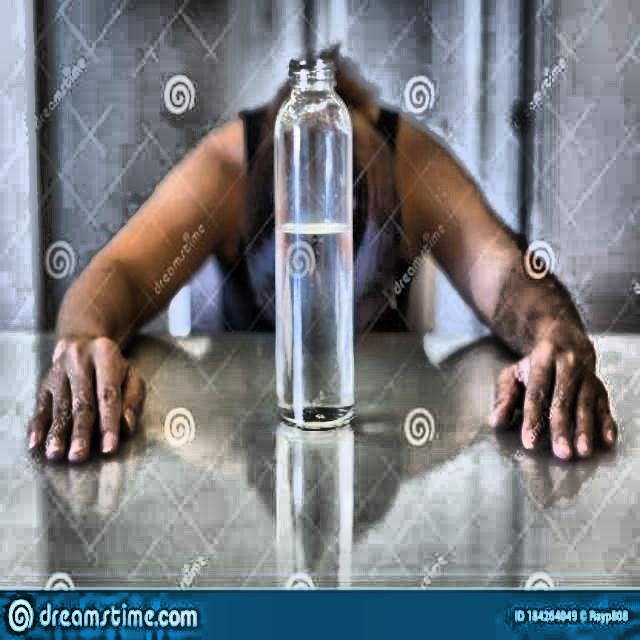Bottles: (247, 43, 390, 438)
